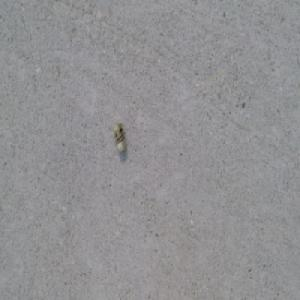BoltNutSet: (112, 122, 126, 153)
